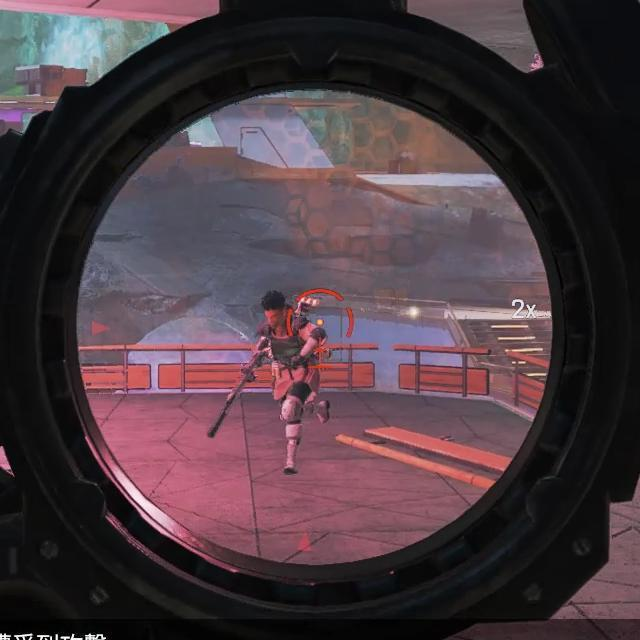avatar: (255, 289, 333, 477)
